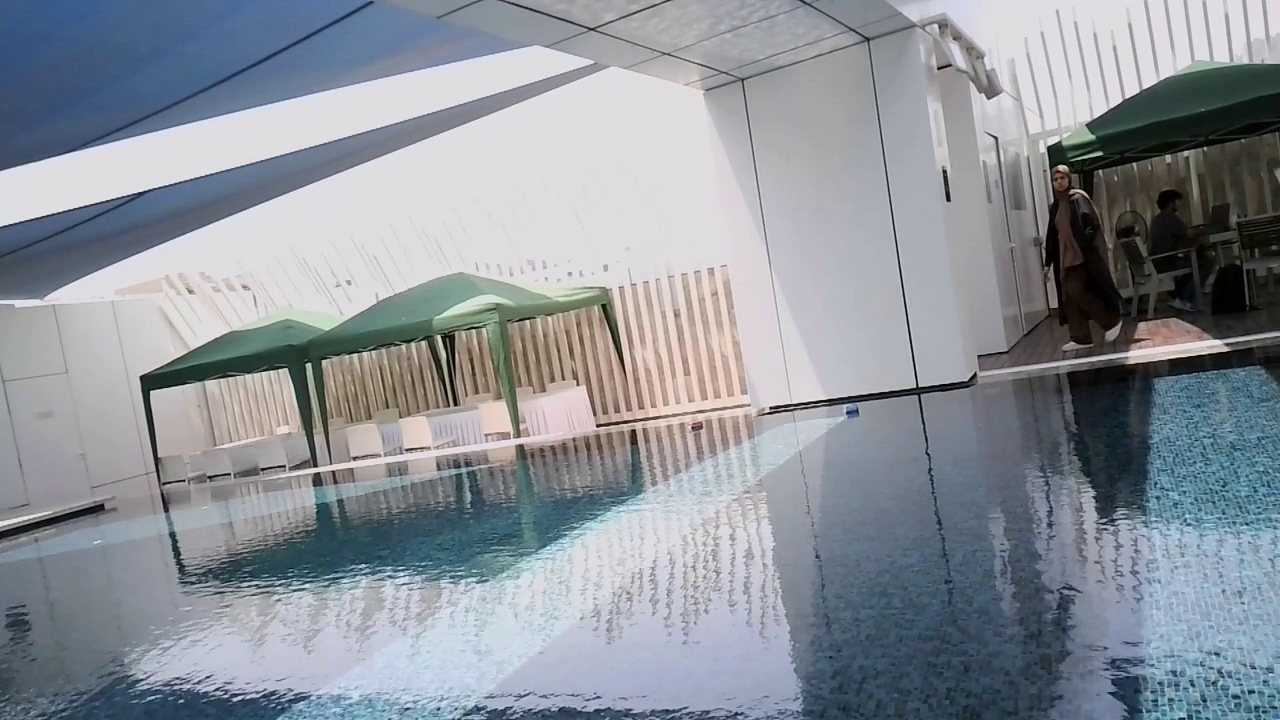debris: (839, 401, 863, 420), (685, 417, 703, 433)
